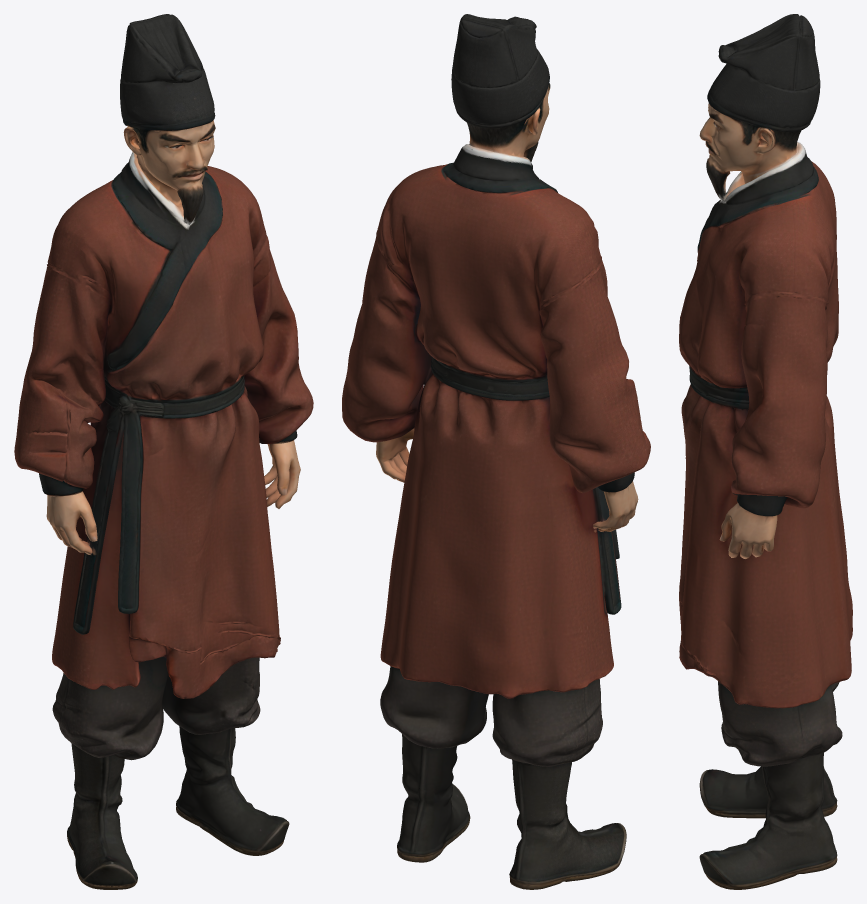
Rendered from zhangqian.glb.
The picture shows the model from 3 angles, left to right: view 1: azimuth 30°, elevation 25°; view 2: azimuth 150°, elevation 25°; view 3: azimuth 270°, elevation 25°; orthographic projection. The views are drawn at different scales.
Parts seen in each view (by area): view 1: tripo_node_629b77f4-64b0-4aa7-b38d-33b3b6b21cd7; view 2: tripo_node_629b77f4-64b0-4aa7-b38d-33b3b6b21cd7; view 3: tripo_node_629b77f4-64b0-4aa7-b38d-33b3b6b21cd7.
Boxes of the visible parts, x1,y1,x2,y2 form: tripo_node_629b77f4-64b0-4aa7-b38d-33b3b6b21cd7: (14,14,313,889); tripo_node_629b77f4-64b0-4aa7-b38d-33b3b6b21cd7: (342,14,650,889); tripo_node_629b77f4-64b0-4aa7-b38d-33b3b6b21cd7: (679,14,852,889).
Size of the model in its own units: 0.6395 by 1.75 by 0.3363.
1 material, 1 textured.
